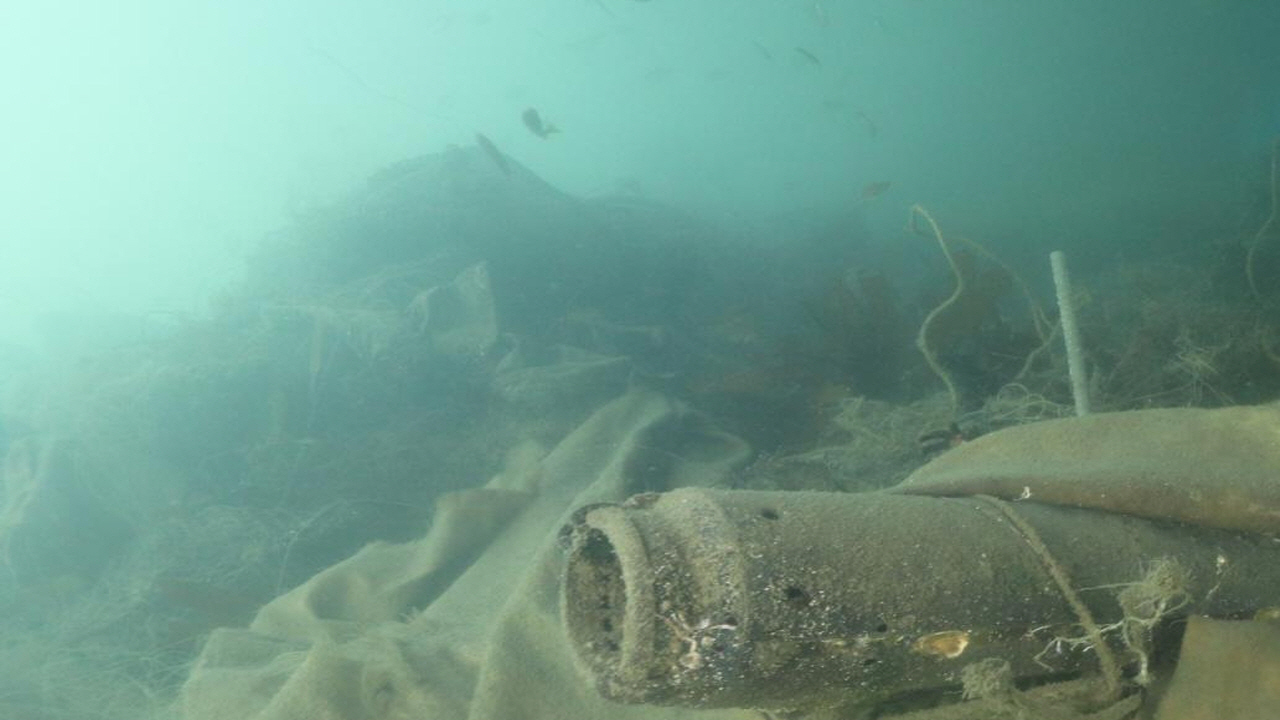bundle of ropes: (961, 489, 1150, 717)
eel fish trap: (556, 484, 1280, 701)
